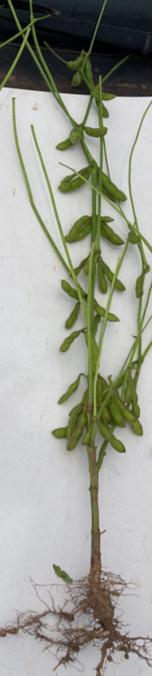soja: (114, 388, 148, 437), (92, 415, 134, 453), (96, 165, 132, 205), (90, 293, 125, 326), (56, 370, 86, 408), (52, 122, 86, 153), (104, 387, 127, 431), (102, 253, 128, 291), (40, 417, 74, 442), (59, 161, 92, 185), (57, 276, 85, 304), (64, 169, 94, 194), (101, 220, 125, 251), (57, 303, 84, 330), (54, 330, 84, 354), (133, 369, 148, 417), (92, 89, 113, 122), (67, 210, 90, 238), (70, 413, 84, 458), (97, 370, 111, 414), (71, 250, 92, 277), (92, 262, 109, 295), (134, 266, 150, 301), (83, 47, 95, 89), (65, 407, 81, 438), (83, 123, 110, 141), (69, 225, 92, 246), (127, 226, 146, 251), (91, 87, 119, 103), (69, 49, 88, 71), (124, 362, 133, 407), (75, 60, 87, 91), (97, 210, 119, 225)
